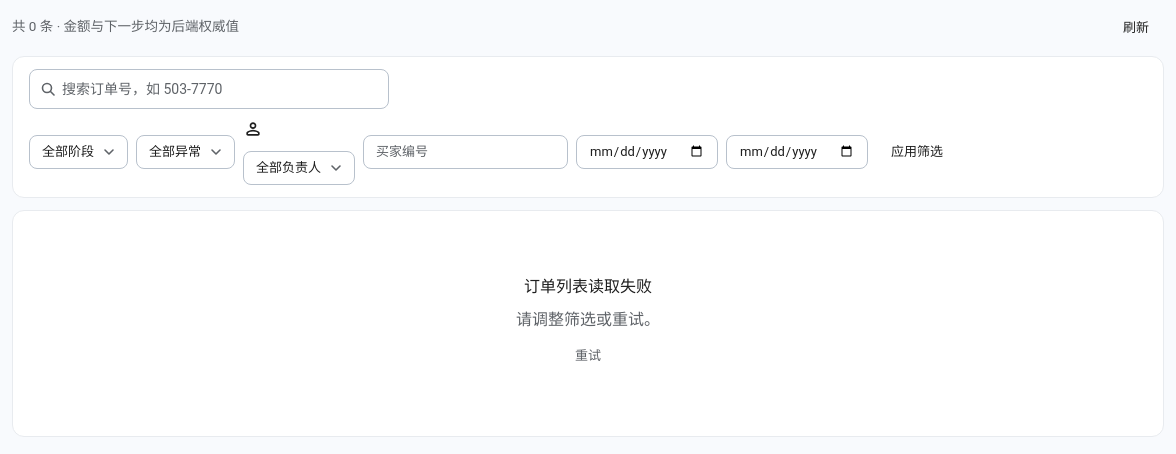
it: staff order list page › recovers from a failed list read with retry
The width and height of the screenshot is (1176, 454).
Expected: the heading "订单列表读取失败" is shown, [524,275,652,300]
Click the button "重试": click(588, 356) [560,340,616,372]
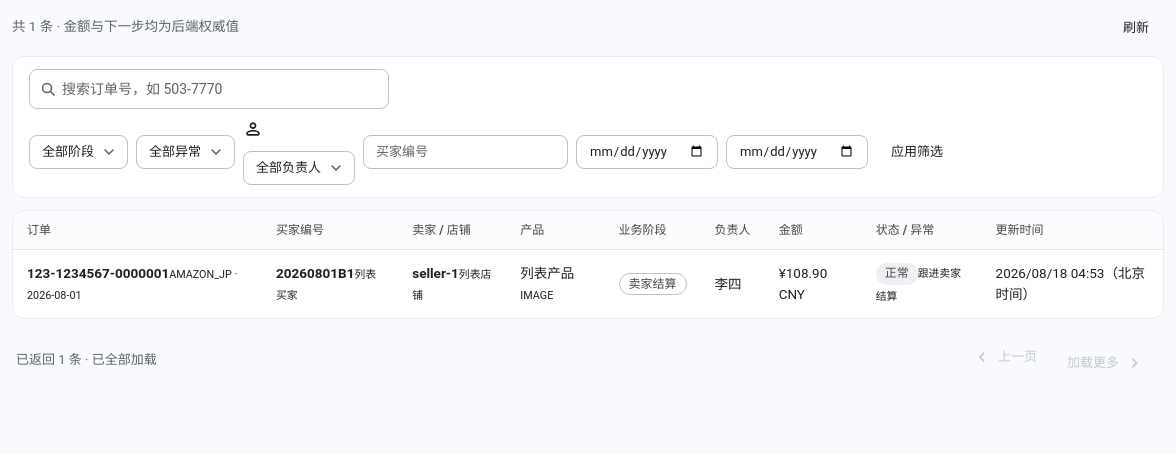
Expected: the text "123-1234567-0000001" is shown, [27,265,169,281]
